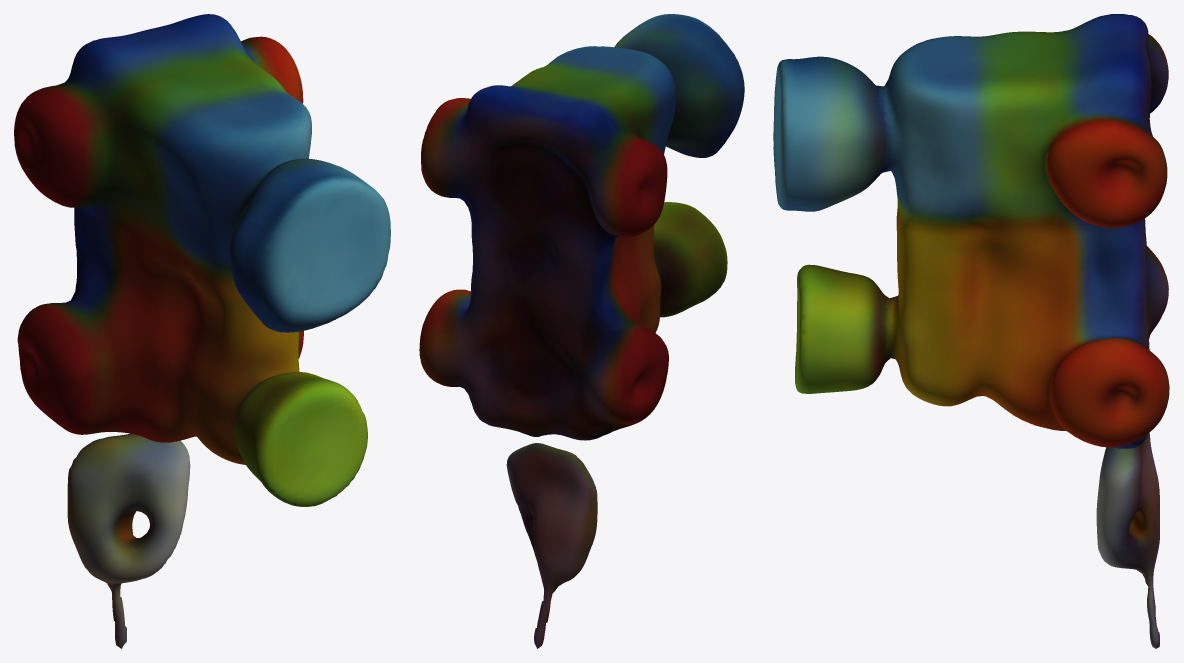
Rendered from train.glb.
The picture shows the model from 3 angles, left to right: view 1: azimuth 30°, elevation 25°; view 2: azimuth 150°, elevation 25°; view 3: azimuth 270°, elevation 25°; orthographic projection. The views are drawn at different scales.
Bounding box in the file's own units: 0.4282 × 0.9972 × 0.5812.
